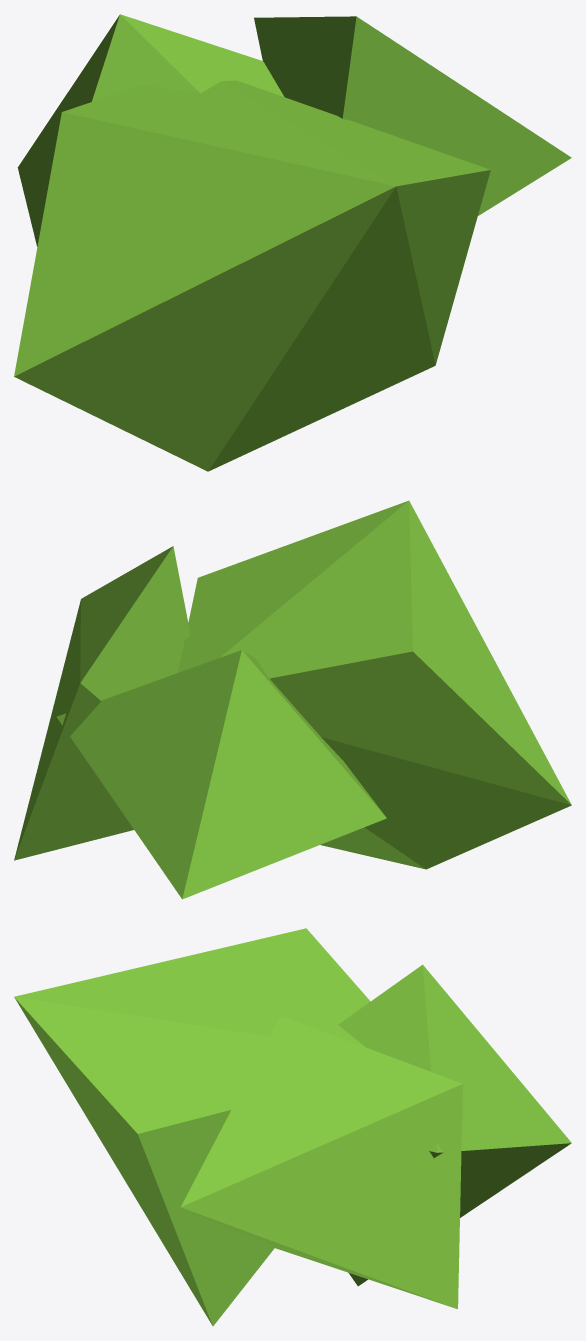
The model's file is trava2.glb.
3 renders of one model, top to bottom at view 1: azimuth 30°, elevation 25°; view 2: azimuth 150°, elevation 25°; view 3: azimuth 270°, elevation 25°, orthographic. The views are drawn at different scales.
Parts seen in each view (by area): view 1: Декор.003; view 2: Декор.003; view 3: Декор.003.
Boxes of the visible parts, <box> form: Декор.003: <box>14,14,571,471</box>; Декор.003: <box>14,500,571,899</box>; Декор.003: <box>14,928,571,1326</box>.
Bounding box in the file's own units: 14.65 × 9.01 × 14.51.
